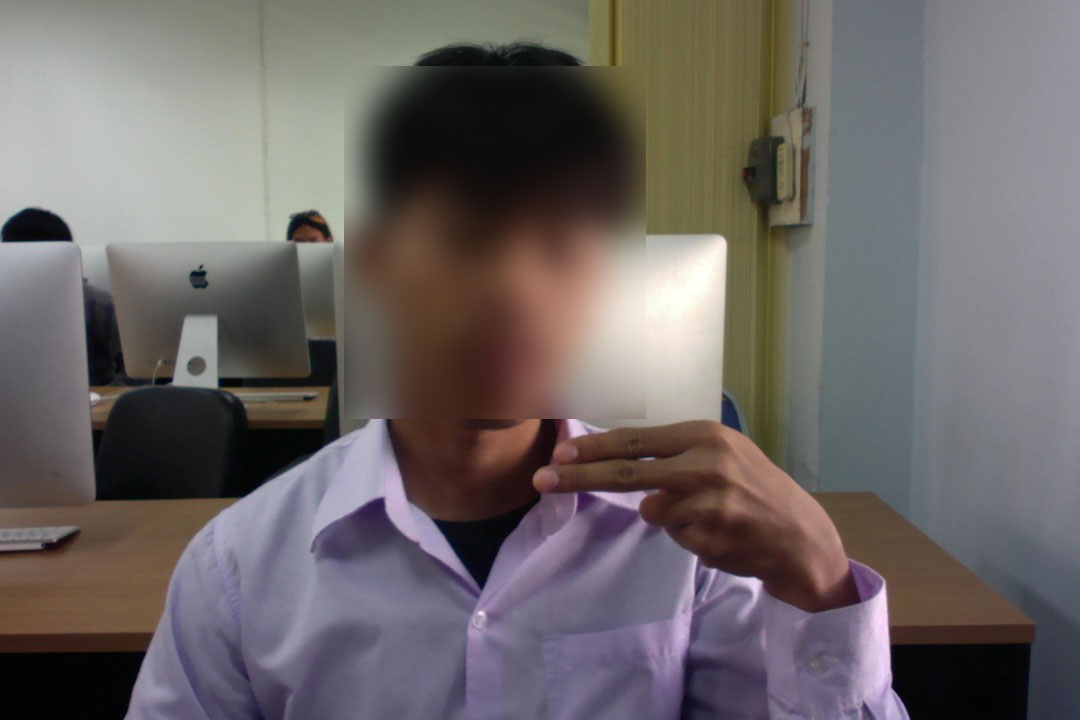hor: (527, 415, 845, 585)
